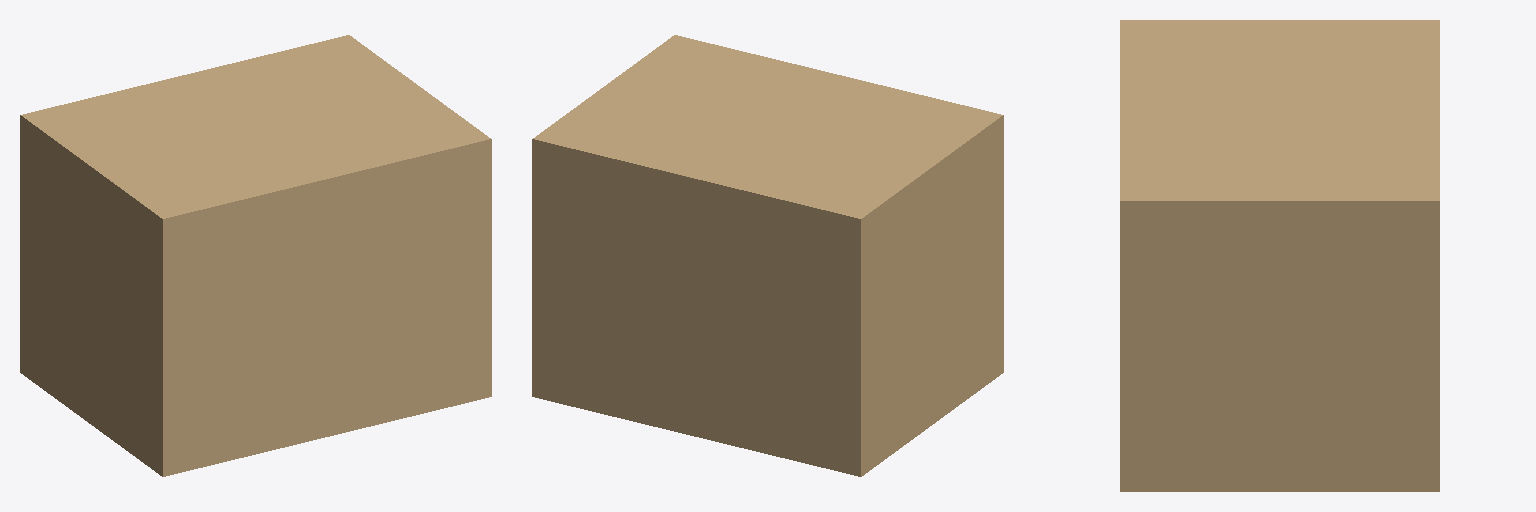
robot.urdf — cardboard_box:
<?xml version="1.0"?>
<robot name="cardboard_box">
  <!-- Thùng carton chính -->
  <link name="box_link">
    <inertial>
      <origin xyz="0 0 0" rpy="0 0 0"/>
      <mass value="0.5"/>
      <inertia ixx="0.0075" ixy="0" ixz="0" iyy="0.0104" iyz="0" izz="0.0104"/>
    </inertial>

    <!-- Visual cho thùng carton (màu nâu carton) -->
    <visual name="box_visual">
      <origin xyz="0 0 0" rpy="0 0 0"/>
      <geometry>
        <box size="0.4 0.3 0.3"/>
      </geometry>
      <material name="carton_material">
        <color rgba="0.82 0.71 0.55 1.0"/>
      </material>
    </visual>

    <!-- Va chạm vật lý -->
    <collision name="box_collision">
      <origin xyz="0 0 0" rpy="0 0 0"/>
      <geometry>
        <box size="0.4 0.3 0.3"/>
      </geometry>
    </collision>
  </link>

  <!-- Tấm nhãn dán mã QR 100x100mm ở góc mặt trước -->
  <link name="qr_code_link">
    <visual name="qr_visual">
      <origin xyz="0 0 0" rpy="0 1.5708 0"/>
      <geometry>
        <plane size="0.1 0.1"/>
      </geometry>
    </visual>
  </link>

  <joint name="qr_code_joint" type="fixed">
    <parent link="box_link"/>
    <child link="qr_code_link"/>
    <!-- Nhô ra nhẹ mặt trước (X=0.201m) và nằm ở góc trên bên phải của mặt thùng -->
    <origin xyz="0.201 0.08 0.08" rpy="0 0 0"/>
  </joint>

  <!-- Cấu hình Material PBR cho Gazebo Sim -->
  <gazebo reference="qr_code_link">
    <visual>
      <material>
        <diffuse>1 1 1 1</diffuse>
        <pbr>
          <metal>
            <albedo_map>package://fullrobotassem/urdf/qr.png</albedo_map>
          </metal>
        </pbr>
      </material>
    </visual>
  </gazebo>

  <gazebo reference="box_link">
    <visual>
      <material>
        <diffuse>0.82 0.71 0.55 1</diffuse>
        <ambient>0.82 0.71 0.55 1</ambient>
      </material>
    </visual>
  </gazebo>
</robot>

--- What the picture shows (computed from the rendered views, not written in the file) ---
The picture shows the robot from 3 angles, left to right: view 1: azimuth 30°, elevation 25°; view 2: azimuth 150°, elevation 25°; view 3: azimuth 270°, elevation 25°; orthographic projection.
Model cardboard_box with 2 links and 1 joints (1 fixed), rooted at box_link, posed all joints at 0.
Visible links, largest first — view 1: box_link; view 2: box_link; view 3: box_link.
Link boxes in pixels (bbox=[...]): box_link: bbox=[20, 35, 491, 476]; box_link: bbox=[532, 35, 1003, 476]; box_link: bbox=[1120, 20, 1439, 491].
Bounding box of the posed robot: 0.4 × 0.3 × 0.3 m (x, y, z).
Geometry: primitives only (box / cylinder / sphere), no mesh files.
